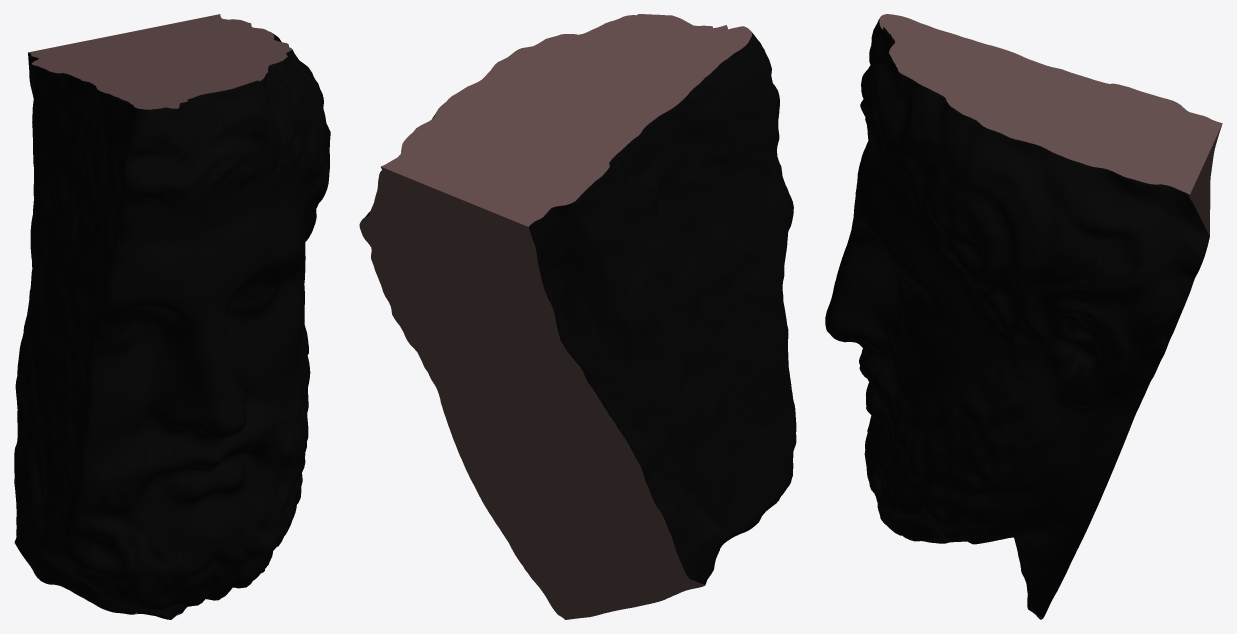
Rendered from marble_head.gltf.
The picture shows the model from 3 angles, left to right: view 1: azimuth 30°, elevation 25°; view 2: azimuth 150°, elevation 25°; view 3: azimuth 270°, elevation 25°; orthographic projection. The views are drawn at different scales.
Parts seen in each view (by area): view 1: Object_2, Object_3; view 2: Object_3, Object_2; view 3: Object_2, Object_3.
Boxes of the visible parts, box(x1,y1,x2,y2) form: Object_2: box(14, 15, 330, 619); Object_3: box(28, 14, 291, 618); Object_3: box(359, 14, 751, 619); Object_2: box(365, 31, 796, 584); Object_2: box(825, 19, 1209, 619); Object_3: box(879, 14, 1222, 618).
Size of the model in its own units: 1.59 by 2.79 by 1.81.
Materials: 2 (1 with a texture image).
